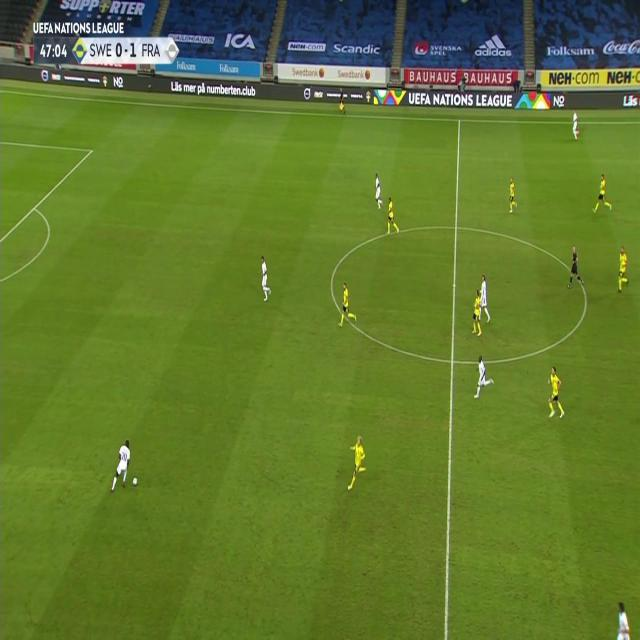ball: (132, 476, 138, 488)
player: (110, 439, 134, 493), (346, 434, 368, 492), (545, 364, 565, 422), (472, 355, 494, 401), (337, 281, 357, 329), (567, 245, 585, 292), (592, 172, 612, 214), (614, 600, 632, 640), (616, 244, 630, 294), (478, 274, 492, 324), (471, 288, 484, 337), (259, 255, 271, 302), (386, 196, 400, 236), (373, 172, 383, 210), (508, 176, 518, 213), (572, 110, 580, 140), (338, 90, 346, 114)
